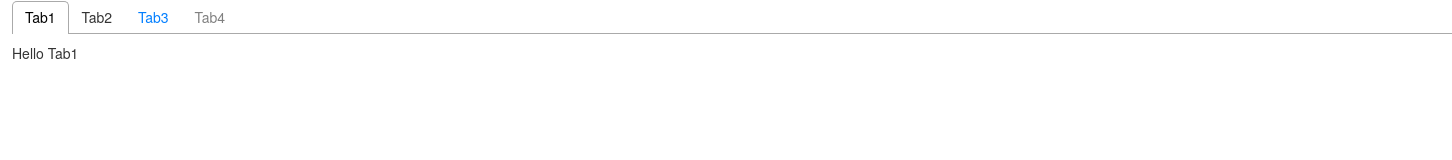
it: <Tabs /> › performance › should only render the selected tab panel
Expected: the panel reads "Hello Tab1", left=12, top=43, right=78, bottom=63
Click the tab with test id "tab2": [97, 17] box left=82, top=7, right=112, bottom=27
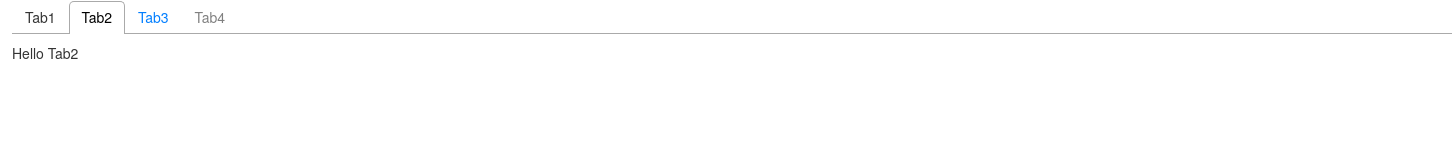
Expected: the panel reads "Hello Tab2", left=12, top=43, right=78, bottom=63
Click the tab with test id "tab3": [153, 17] box left=138, top=7, right=168, bottom=27
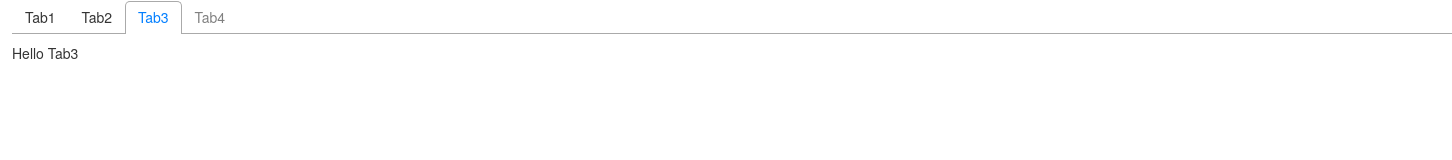
Expected: the panel reads "Hello Tab3", left=12, top=43, right=78, bottom=63
